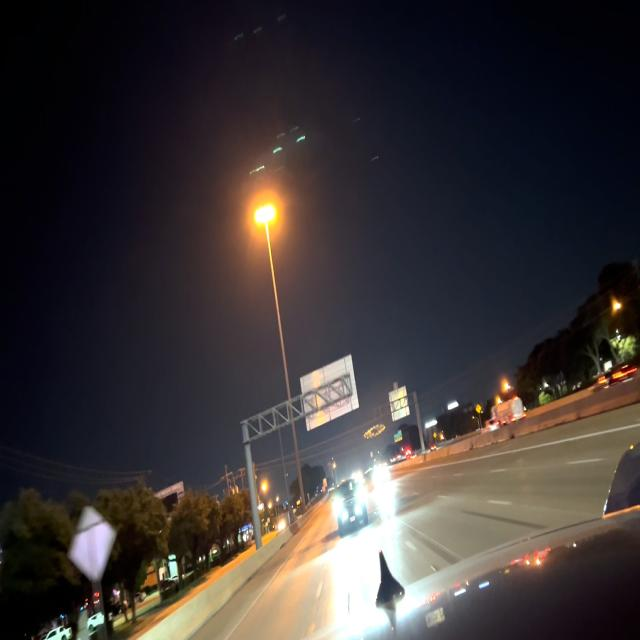back-of-sign: (299, 353, 359, 430), (73, 506, 116, 581), (389, 387, 410, 422)
